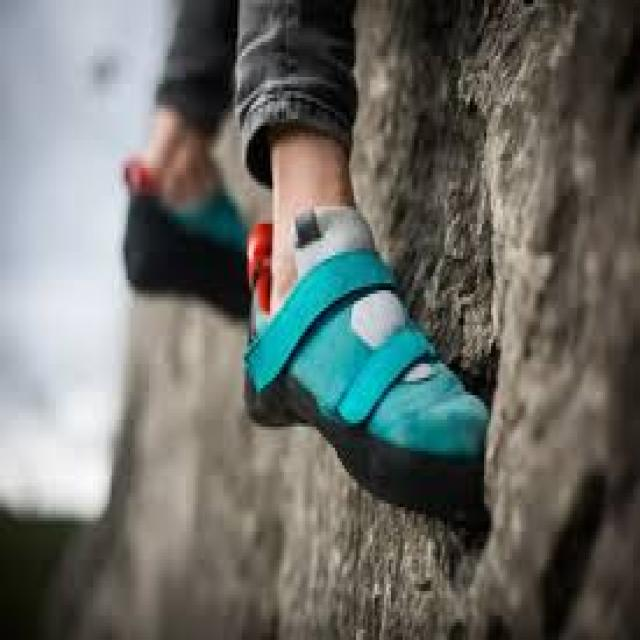climbing-shoes: (246, 210, 495, 518)
